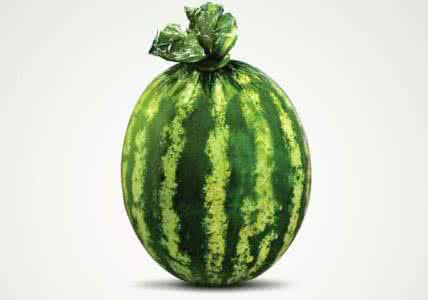watermelon: (112, 12, 313, 284)
